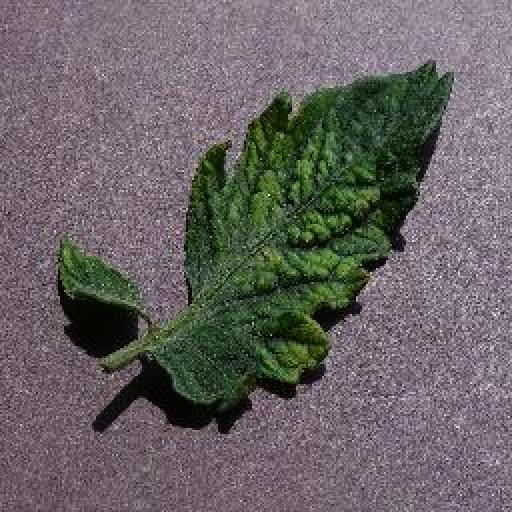Mosaic Virus: (58, 55, 456, 413)
